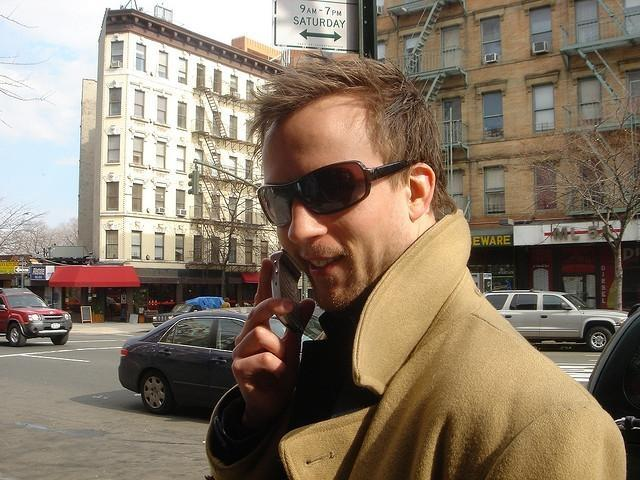car: (120, 308, 252, 416), (487, 289, 632, 352), (589, 302, 640, 478), (0, 288, 73, 346), (152, 304, 201, 328)
truck: (482, 290, 629, 350), (152, 299, 224, 328)
